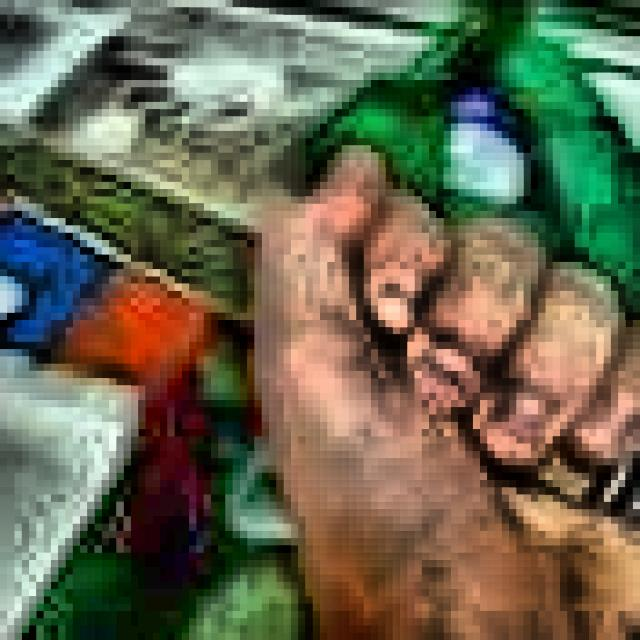knife: (0, 124, 640, 531)
